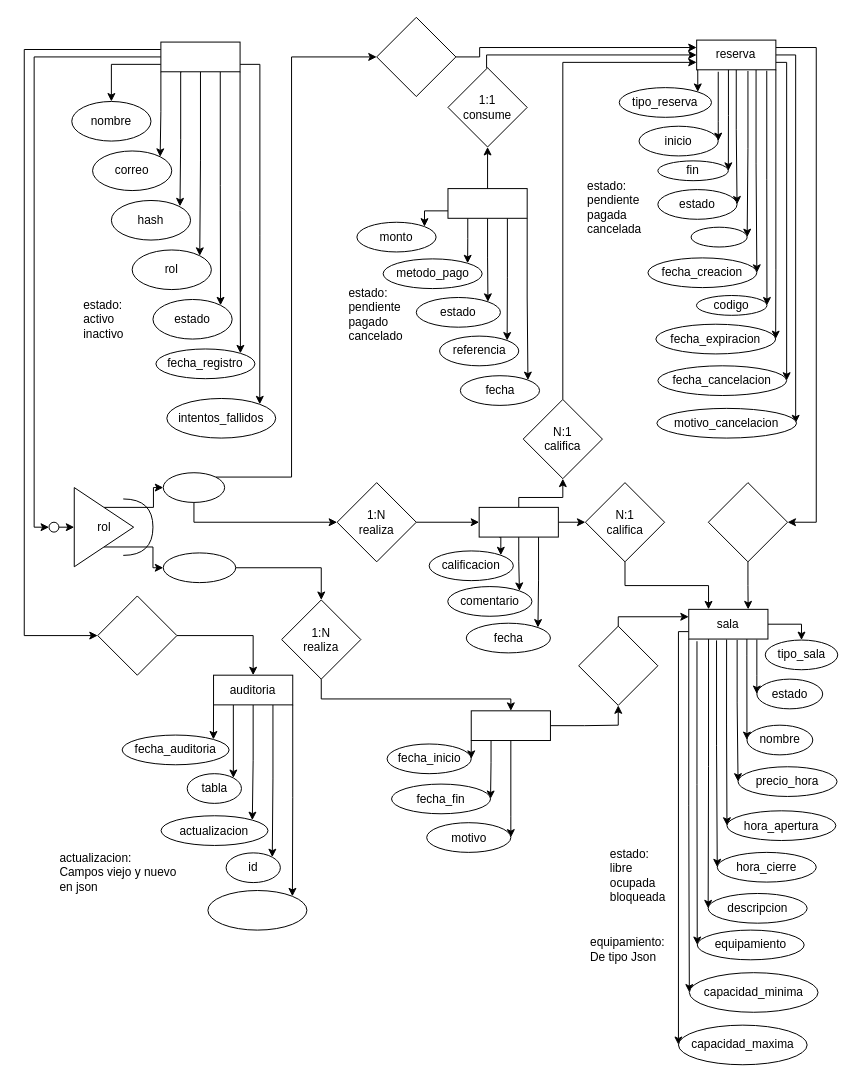
The diagram is 855 pixels wide and 1082 high, and some of its shapes have lost their labels. Each missing label, with the centre of its shape:
1:N audita: (137,635)
1:N crea: (416,56)
admin: (199,567)
bloqueo: (510,725)
cliente: (193,487)
N:1 bloquea: (618,665)
N:1 usa: (747,522)
pago: (487,203)
resenia: (518,521)
tipo_movimiento: (257,910)
total: (718,236)
usuario: (200,56)
